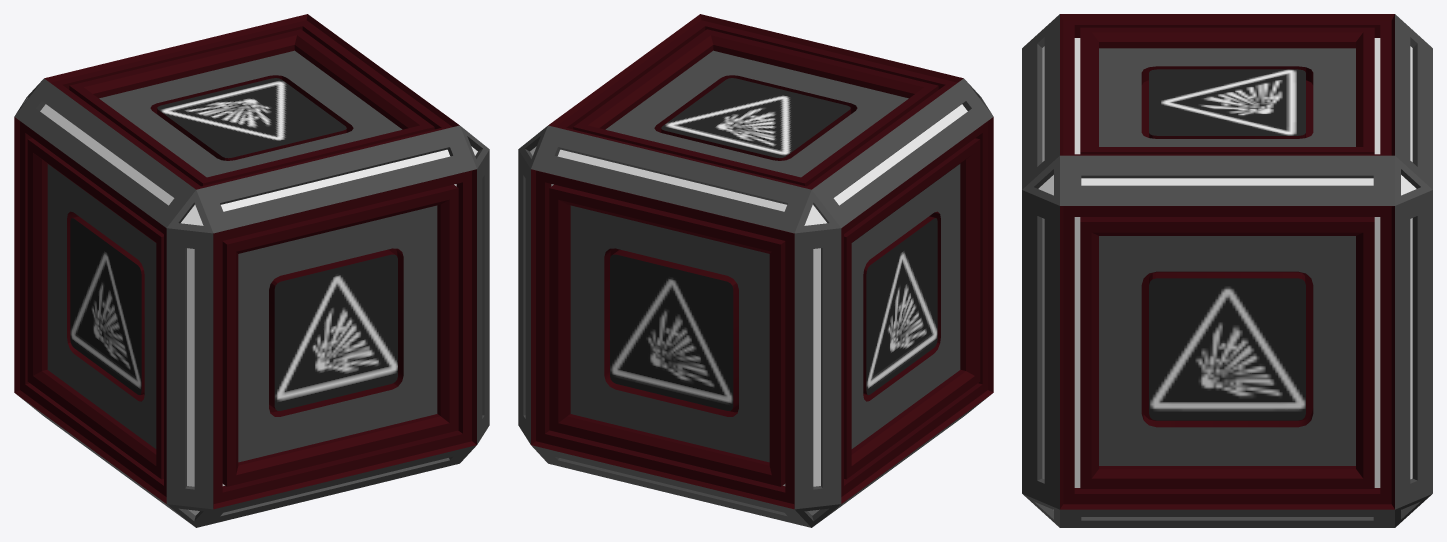
The model's file is CrateExplosive.fbx.
3 renders of one model, left to right at view 1: azimuth 30°, elevation 25°; view 2: azimuth 150°, elevation 25°; view 3: azimuth 270°, elevation 25°, orthographic. The views are drawn at different scales.
Visible parts, largest first — view 1: Cube; view 2: Cube; view 3: Cube.
Part boxes in pixels (left/top/right/bottom): Cube: left=14, top=14, right=489, bottom=527; Cube: left=518, top=14, right=993, bottom=527; Cube: left=1022, top=14, right=1432, bottom=527.
Bounding box in the file's own units: 575 × 575 × 575.
